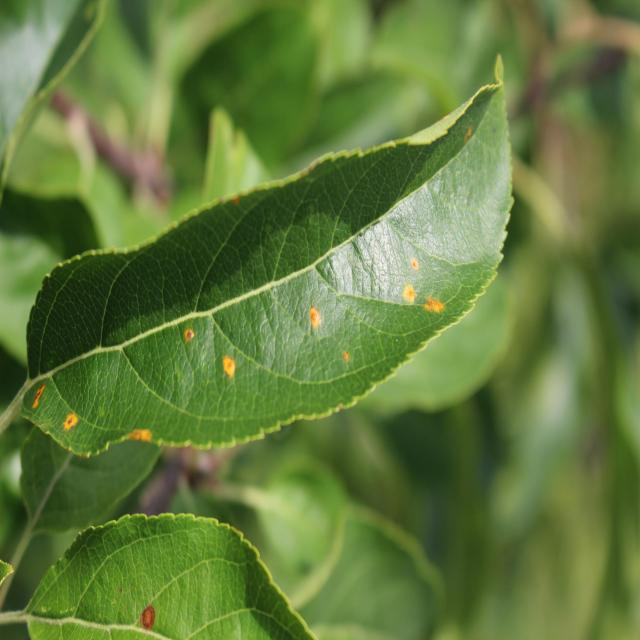Black Rot: (136, 578, 166, 640)
Rust: (111, 417, 164, 454), (28, 356, 48, 431), (396, 267, 422, 321), (302, 295, 330, 335), (218, 354, 246, 389), (57, 402, 84, 438), (423, 297, 451, 328), (337, 343, 358, 377), (181, 322, 200, 352)
